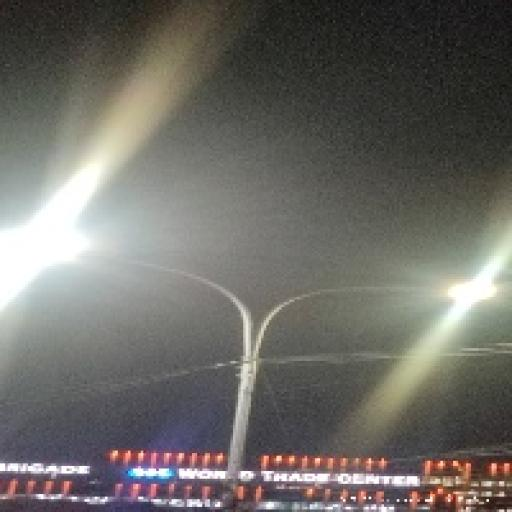Working: (440, 274, 504, 315)
